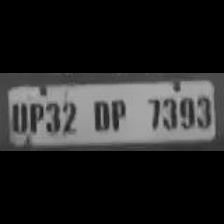2: (58, 97, 80, 136)
3: (156, 92, 178, 128), (192, 90, 212, 128), (41, 98, 60, 134)
7: (142, 92, 160, 130)
9: (177, 92, 195, 128)
D: (90, 96, 116, 132)
P: (104, 94, 130, 132), (24, 98, 43, 134)
U: (7, 98, 26, 134)
